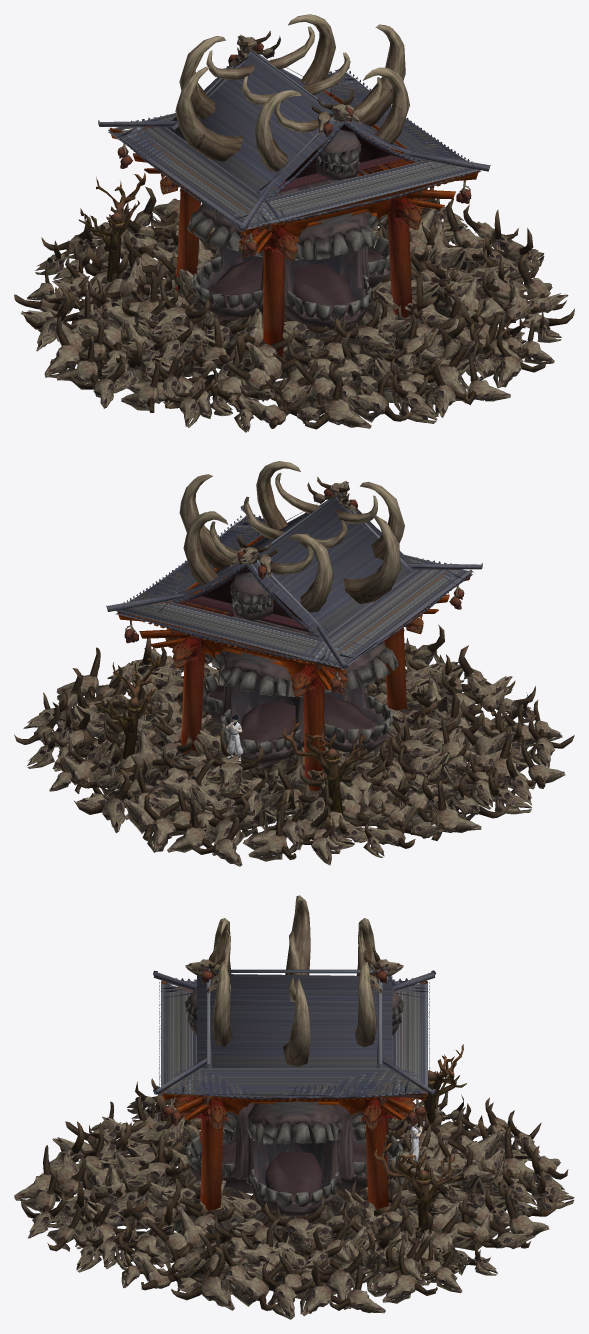
The model's file is malevolent_shrine.glb.
3 views of the same model, one above another, from view 1: azimuth 30°, elevation 25°; view 2: azimuth 150°, elevation 25°; view 3: azimuth 270°, elevation 25° (orthographic). The views are drawn at different scales.
Visible parts, largest first — view 1: MS_shrine, MS_skull_side2_GTA_Mtl_0, MS_bull, MS_skull_side1_GTA_Mtl_0, MS_skull_side3_GTA_Mtl_0, MS_skull_main_GTA_Mtl_0.001, MS_mouth_GTA_Mtl_0.001, MS_mouth_GTA_Mtl_0.002, MS_land_GTA_Mtl_0.002, MS_tree, MS_land_GTA_Mtl_0.001, MS_mouth_GTA_Mtl_0.004 (+5 smaller); view 2: MS_shrine, MS_skull_main_GTA_Mtl_0.001, MS_bull, MS_skull_side1_GTA_Mtl_0, MS_skull_side3_GTA_Mtl_0, MS_mouth_GTA_Mtl_0.003, MS_skull_side2_GTA_Mtl_0, MS_mouth_GTA_Mtl_0.002, MS_tree, MS_land, MS_mouth_GTA_Mtl_0.004, MS_mouth (+4 smaller); view 3: MS_shrine, MS_skull_side3_GTA_Mtl_0, MS_skull_main_GTA_Mtl_0.001, MS_skull_side2_GTA_Mtl_0, MS_bull, MS_mouth, MS_tree, MS_mouth_GTA_Mtl_0.001, MS_skull_side1_GTA_Mtl_0, MS_mouth_GTA_Mtl_0.003, MS_land_GTA_Mtl_0.002, MS_land (+4 smaller).
Part boxes in pixels (x1,y1,x2,y2): MS_shrine: (98, 47, 490, 252); MS_skull_side2_GTA_Mtl_0: (234, 273, 554, 432); MS_bull: (117, 14, 471, 357); MS_skull_side1_GTA_Mtl_0: (21, 257, 294, 427); MS_skull_side3_GTA_Mtl_0: (371, 188, 568, 342); MS_skull_main_GTA_Mtl_0.001: (35, 186, 486, 342); MS_mouth_GTA_Mtl_0.001: (284, 212, 374, 330); MS_mouth_GTA_Mtl_0.002: (187, 190, 289, 319); MS_land_GTA_Mtl_0.002: (276, 297, 470, 414); MS_tree: (78, 172, 145, 282); MS_land_GTA_Mtl_0.001: (71, 298, 287, 402); MS_mouth_GTA_Mtl_0.004: (316, 129, 361, 179); MS_shrine: (106, 492, 482, 690); MS_skull_main_GTA_Mtl_0.001: (49, 679, 455, 866); MS_bull: (124, 461, 464, 791); MS_skull_side1_GTA_Mtl_0: (336, 690, 574, 857); MS_skull_side3_GTA_Mtl_0: (14, 638, 219, 788); MS_mouth_GTA_Mtl_0.003: (217, 651, 304, 765); MS_skull_side2_GTA_Mtl_0: (205, 624, 539, 723); MS_mouth_GTA_Mtl_0.002: (301, 631, 399, 752); MS_tree: (98, 657, 368, 813); MS_land: (107, 701, 406, 843); MS_mouth_GTA_Mtl_0.004: (230, 572, 273, 619); MS_mouth: (202, 611, 291, 724); MS_shrine: (153, 969, 435, 1120); MS_skull_side3_GTA_Mtl_0: (121, 1183, 467, 1319); MS_skull_main_GTA_Mtl_0.001: (241, 1097, 574, 1275); MS_skull_side2_GTA_Mtl_0: (14, 1101, 235, 1272); MS_bull: (162, 895, 426, 1211); MS_mouth: (246, 1101, 342, 1216); MS_tree: (373, 1044, 466, 1233); MS_mouth_GTA_Mtl_0.001: (185, 1103, 254, 1191); MS_skull_side1_GTA_Mtl_0: (127, 1078, 463, 1154); MS_mouth_GTA_Mtl_0.003: (335, 1105, 403, 1192); MS_land_GTA_Mtl_0.002: (71, 1154, 251, 1264); MS_land: (256, 1139, 514, 1259).
Bounding box in the file's own units: 0.6432 × 0.3533 × 0.6431.
28 materials, 28 textured.
